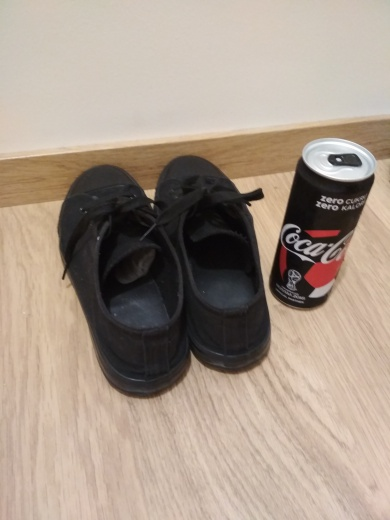colazero: (263, 127, 379, 320)
